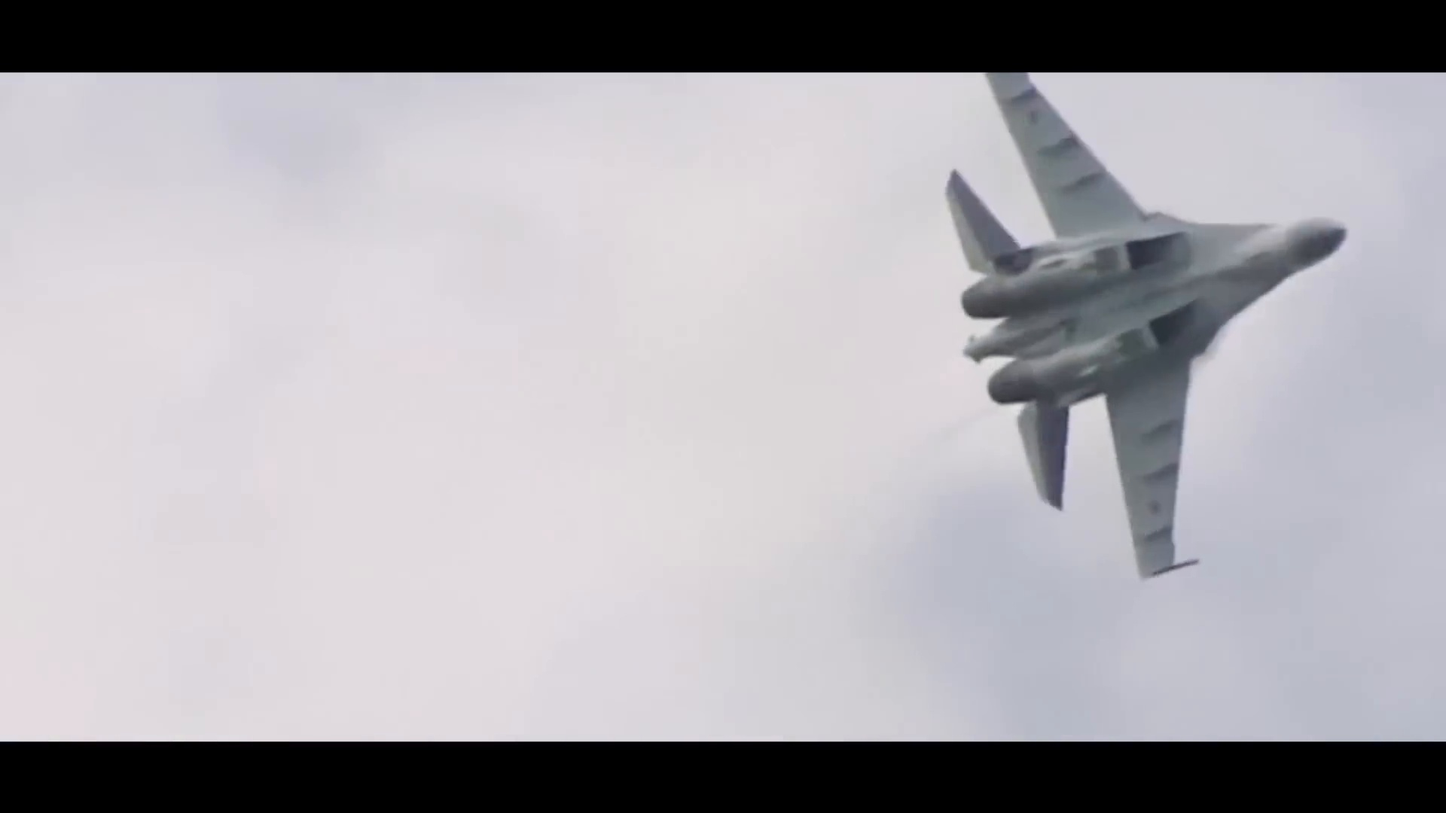Su35: (937, 73, 1340, 586)
